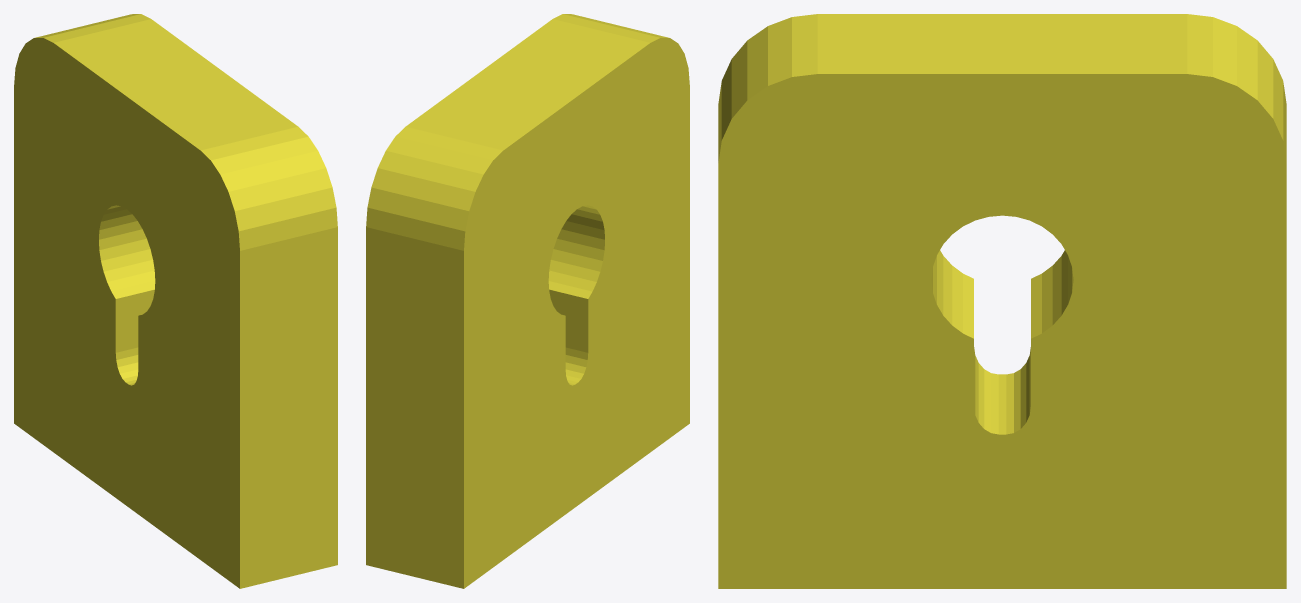
The model's file is gate.glb.
3 views of the same model, side by side, from view 1: azimuth 30°, elevation 25°; view 2: azimuth 150°, elevation 25°; view 3: azimuth 270°, elevation 25° (orthographic). The views are drawn at different scales.
Visible parts, largest first — view 1: Cube.001, Cube.002; view 2: Cube.002, Cube.001; view 3: Cube.001, Cube.002.
Part boxes in pixels (<box>): Cube.001: <box>126,73,337,588</box>; Cube.002: <box>14,14,225,506</box>; Cube.002: <box>366,72,577,588</box>; Cube.001: <box>480,14,689,506</box>; Cube.001: <box>718,14,1004,588</box>; Cube.002: <box>1000,14,1286,588</box>.
Size of the model in its own units: 0.5 by 2 by 2.
